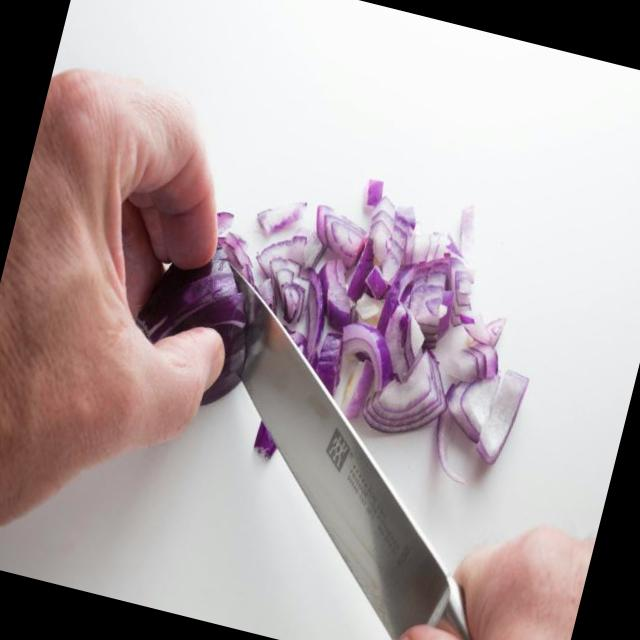Knife: (240, 286, 467, 640)
